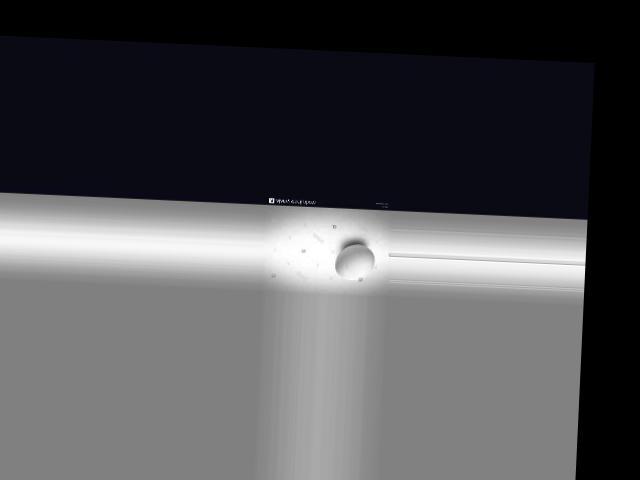egg: (335, 242, 376, 280)
